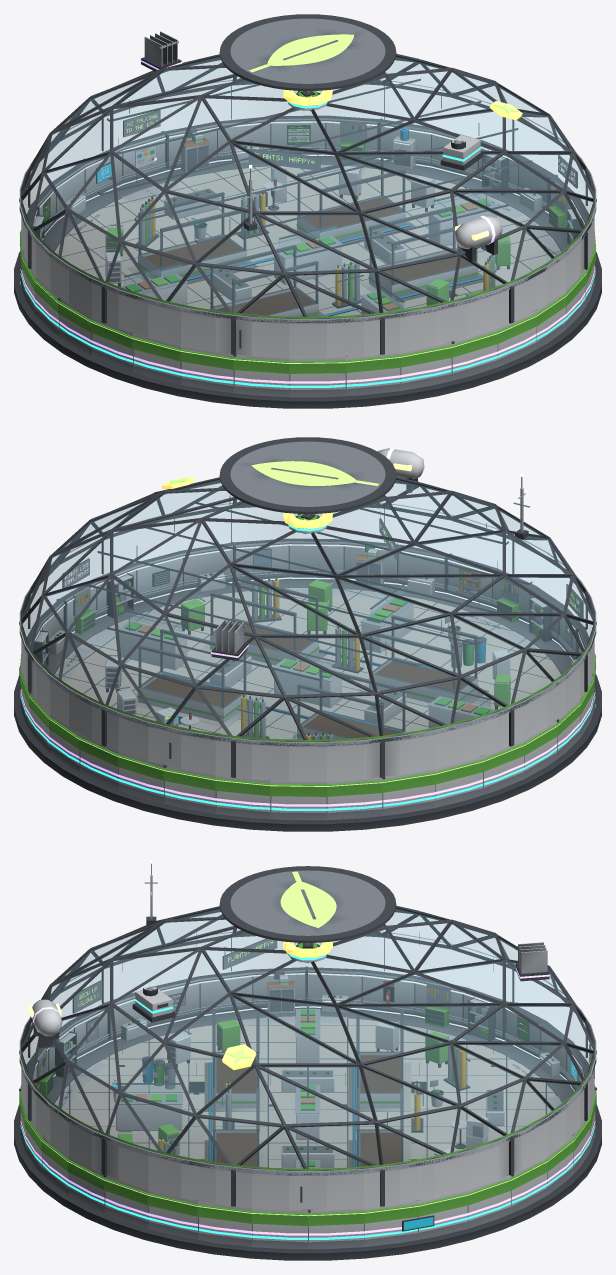
File: greenhouse_m.glb
3 renders of one model, top to bottom at view 1: azimuth 30°, elevation 25°; view 2: azimuth 150°, elevation 25°; view 3: azimuth 270°, elevation 25°, orthographic.
Parts seen in each view (by area): view 1: Roof, Base, Interior, RoofCeil, L4, Upper_21, Upper_22, Wall_21, Upper_20, Wall_20, Wall_22, Upper_19 (+40 smaller); view 2: Roof, Base, Interior, RoofCeil, Tall_03, L4, Upper_10, Upper_11, Wall_10, Upper_09, Wall_11, Wall_09 (+37 smaller); view 3: Roof, Base, Interior, L4, Wall_16, Wall_00, Wall_31, Upper_00, Upper_31, Wall_30, Upper_30, Upper_01 (+43 smaller).
Boxes of the visible parts, bbox=[...] form: Roof: bbox=[19, 14, 596, 322]; Base: bbox=[14, 156, 601, 408]; Interior: bbox=[63, 155, 559, 316]; RoofCeil: bbox=[89, 78, 532, 257]; L4: bbox=[140, 31, 502, 262]; Upper_21: bbox=[289, 319, 345, 358]; Upper_22: bbox=[345, 314, 400, 356]; Wall_21: bbox=[289, 357, 345, 397]; Upper_20: bbox=[233, 316, 289, 358]; Wall_20: bbox=[233, 354, 289, 397]; Wall_22: bbox=[345, 352, 400, 396]; Upper_19: bbox=[181, 309, 233, 354]; Roof: bbox=[19, 437, 596, 745]; Base: bbox=[14, 579, 601, 831]; Interior: bbox=[56, 577, 539, 739]; RoofCeil: bbox=[85, 496, 532, 680]; Tall_03: bbox=[118, 609, 187, 670]; L4: bbox=[211, 448, 424, 660]; Upper_10: bbox=[270, 742, 326, 781]; Upper_11: bbox=[326, 739, 382, 781]; Wall_10: bbox=[270, 780, 326, 820]; Upper_09: bbox=[215, 737, 270, 779]; Wall_11: bbox=[326, 777, 382, 820]; Wall_09: bbox=[215, 775, 270, 819]; Roof: bbox=[19, 866, 596, 1174]; Base: bbox=[14, 1008, 601, 1260]; Interior: bbox=[56, 1010, 561, 1167]; L4: bbox=[28, 942, 550, 1048]; Wall_16: bbox=[252, 966, 307, 1013]; Wall_00: bbox=[308, 1208, 364, 1249]; Wall_31: bbox=[251, 1208, 307, 1249]; Upper_00: bbox=[308, 1170, 363, 1210]; Upper_31: bbox=[252, 1170, 307, 1210]; Wall_30: bbox=[197, 1200, 251, 1246]; Upper_30: bbox=[197, 1163, 251, 1207]; Upper_01: bbox=[364, 1163, 418, 1207].
Bounding box in the file's own units: 17.76 × 7.78 × 17.76.
